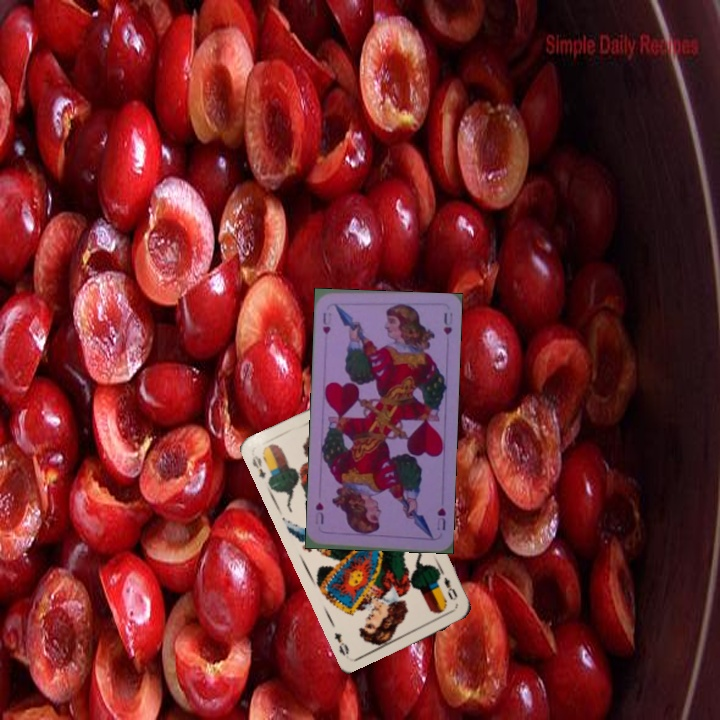EO: (440, 573, 460, 603), (248, 451, 268, 480)
HU: (433, 503, 448, 533), (319, 308, 333, 337)
